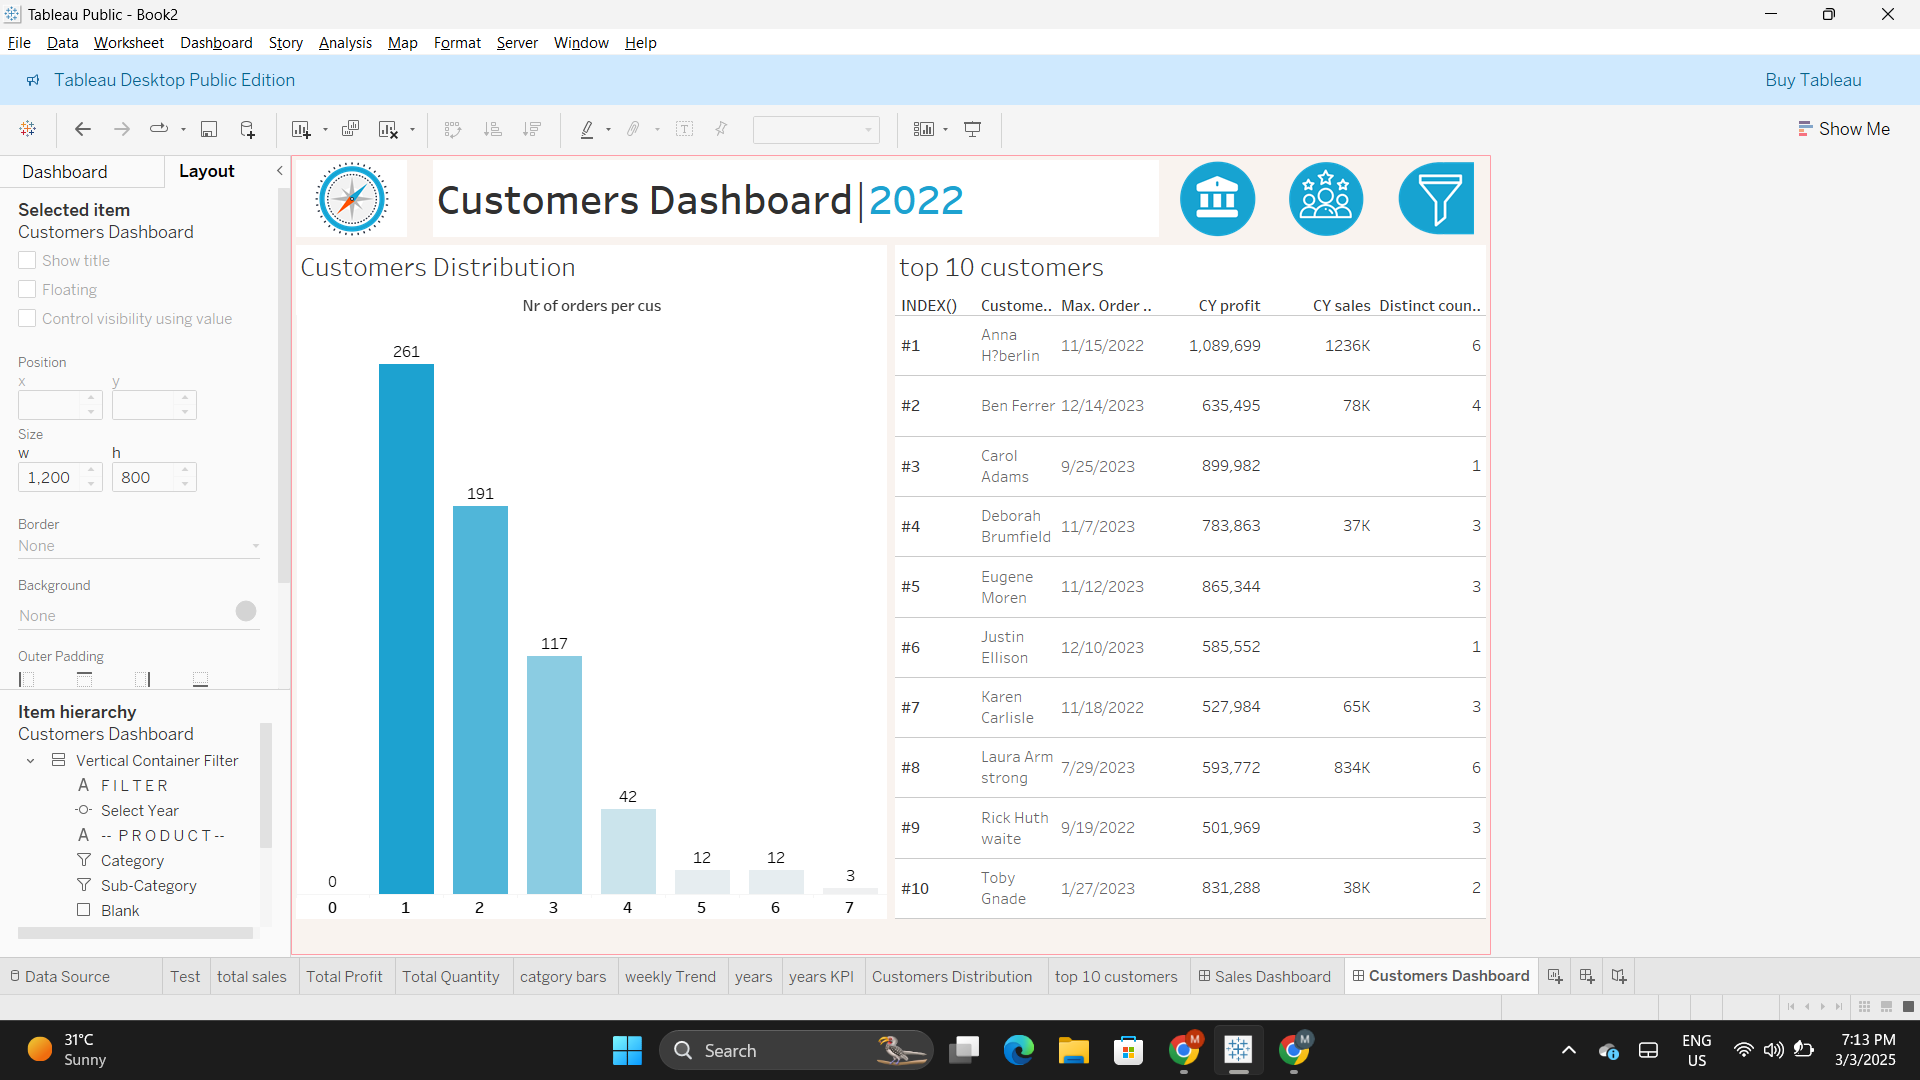

Layout of this report page (visuals, bound fields, positions):
{"tool":"tableau","page":{"name":"Customers Dashboard","canvas":[1200,800],"ordinal":0},"visuals":[{"type":"image","param":"C:/Users/MUHAMMAD SUBHAN KHAN/Desktop/EVERYTHING IN IT/Data analyst portfolio pr","box":[1,1,119,85]},{"type":"text","box":[120,1,752,85]},{"type":"dashboard-object","box":[872,1,109,85]},{"type":"dashboard-object","box":[981,1,109,85]},{"type":"dashboard-object","box":[1090,1,109,85]},{"type":"text","box":[1064,10,132.8,43]},{"type":"parameter","param":"[Parameters].[Parameter 1]","box":[1064,53,132.8,56]},{"type":"worksheet","title":"Customers Distribution","mark":"Bar","rows":["CY profit (copy)_482166688112812033"],"cols":["Calculation_482166688165769229"],"box":[1,86,599,682]},{"type":"worksheet","title":"top 10 customers","mark":"Automatic","rows":["Calculation_482166688178106385","Customer Name","Order Date"],"box":[600,86,599,682]},{"type":"text","box":[1064,214,132.8,33]},{"type":"filter","title":"Customers Distribution","param":"[federated.0j4fdbl0g0gvoc102kc3h1rg28l4].[none:Category:nk]","box":[1064,247,132.8,61]},{"type":"filter","title":"Customers Distribution","param":"[federated.0j4fdbl0g0gvoc102kc3h1rg28l4].[none:Sub-Category:nk]","box":[1064,308,132.8,61]},{"type":"blank","box":[1064,369,132.8,74]},{"type":"text","box":[1064,443,132.8,64]},{"type":"filter","title":"Customers Distribution","param":"[federated.0j4fdbl0g0gvoc102kc3h1rg28l4].[none:State:nk]","box":[1064,507,132.8,61]},{"type":"filter","title":"Customers Distribution","param":"[federated.0j4fdbl0g0gvoc102kc3h1rg28l4].[none:Region:nk]","box":[1064,568,132.8,61]},{"type":"filter","title":"Customers Distribution","param":"[federated.0j4fdbl0g0gvoc102kc3h1rg28l4].[none:City:nk]","box":[1064,629,132.8,61]}]}

Visuals, with their boxes on the page's 1200x800 design canvas (x1, y1, x2, y2). These are canvas units, not pixel positions in the 1920x1080 screenshot, which may show the page scaled, cropped or inside an application window:
image: <bbox>1, 1, 120, 86</bbox>
text: <bbox>120, 1, 872, 86</bbox>
dashboard-object: <bbox>872, 1, 981, 86</bbox>
dashboard-object: <bbox>981, 1, 1090, 86</bbox>
dashboard-object: <bbox>1090, 1, 1199, 86</bbox>
text: <bbox>1064, 10, 1197, 53</bbox>
parameter: <bbox>1064, 53, 1197, 109</bbox>
"Customers Distribution" worksheet (Bar marks): <bbox>1, 86, 600, 768</bbox>
"top 10 customers" worksheet: <bbox>600, 86, 1199, 768</bbox>
text: <bbox>1064, 214, 1197, 247</bbox>
"Customers Distribution" filter: <bbox>1064, 247, 1197, 308</bbox>
"Customers Distribution" filter: <bbox>1064, 308, 1197, 369</bbox>
blank: <bbox>1064, 369, 1197, 443</bbox>
text: <bbox>1064, 443, 1197, 507</bbox>
"Customers Distribution" filter: <bbox>1064, 507, 1197, 568</bbox>
"Customers Distribution" filter: <bbox>1064, 568, 1197, 629</bbox>
"Customers Distribution" filter: <bbox>1064, 629, 1197, 690</bbox>
